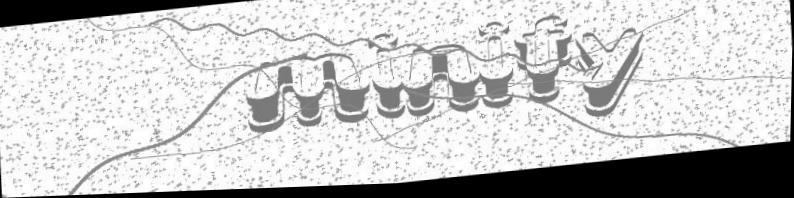f: (518, 9, 577, 121)
i: (477, 19, 520, 118), (368, 34, 408, 128)
m: (243, 43, 376, 142)
n: (407, 40, 486, 128)
y: (573, 25, 648, 125)
